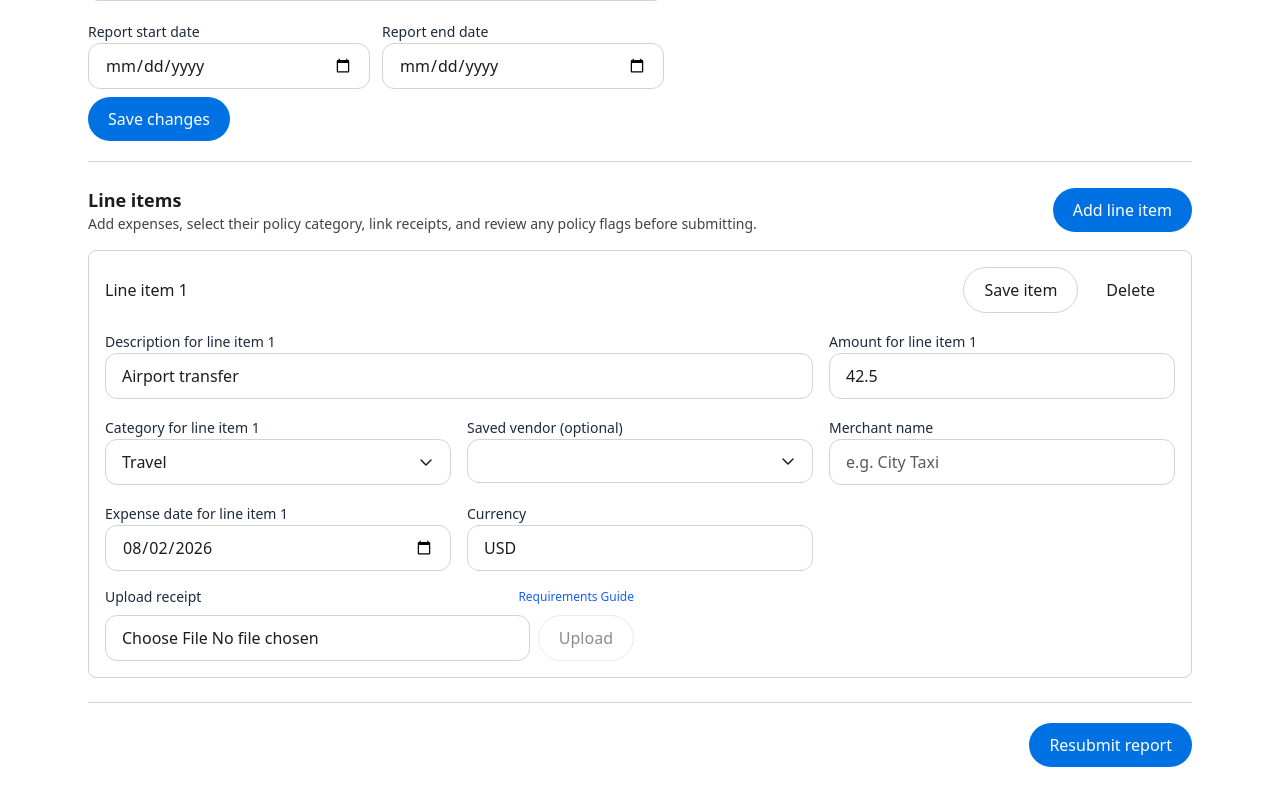
Scenario: ReportEditor › allows sent-back reports to be corrected and displays API validation details
(page scrolled)
Click the button "Resubmit report" at (1111, 745), box top-left (1029, 723), bottom-right (1192, 767)
(page scrolled)
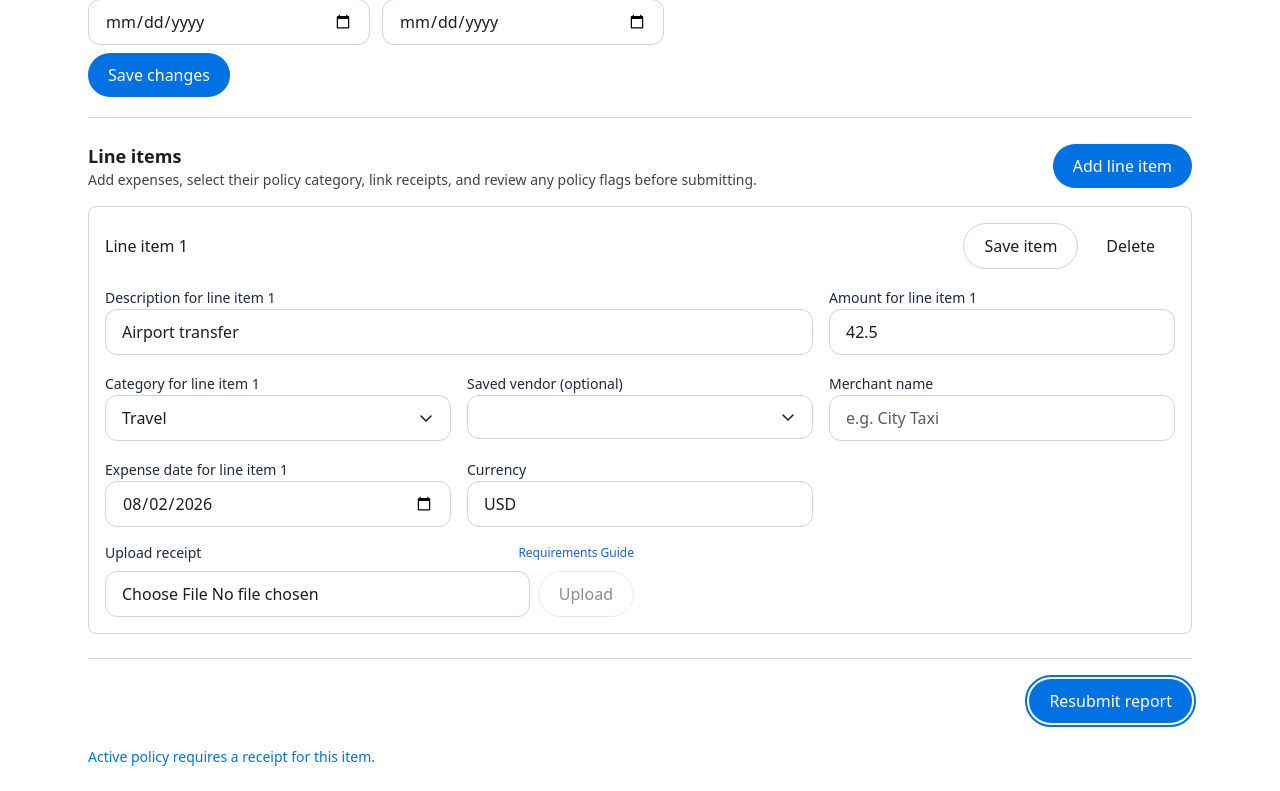
Expected: the text "Active policy requires a receipt for this item." is shown, top-left (88, 747), bottom-right (375, 766)
